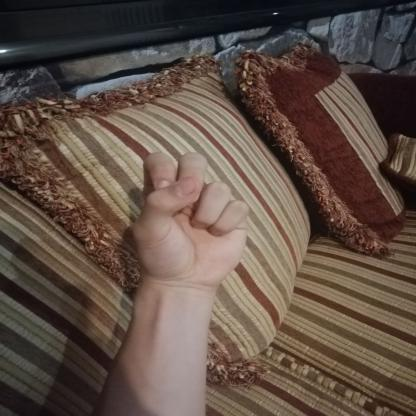QAAF: (115, 144, 265, 297)
